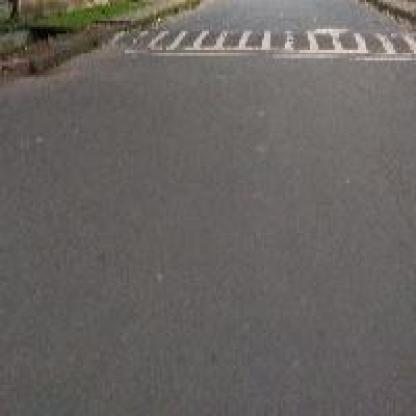Speed Bump: (120, 23, 404, 50)
